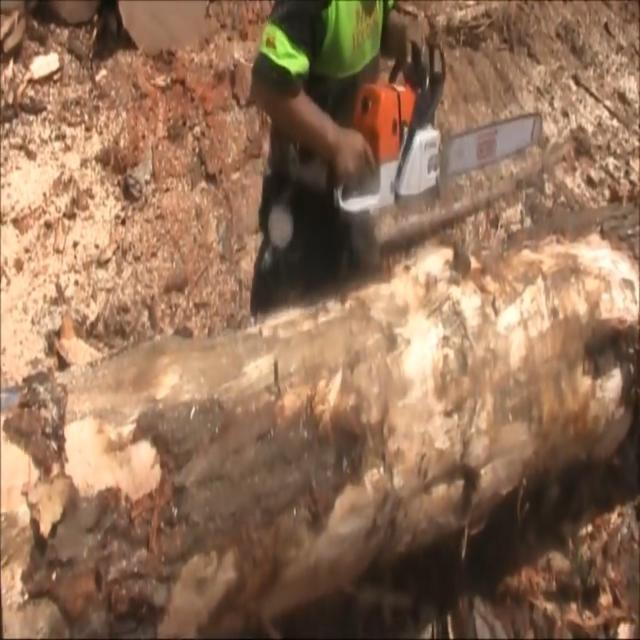Chainsaw: (333, 54, 562, 216)
